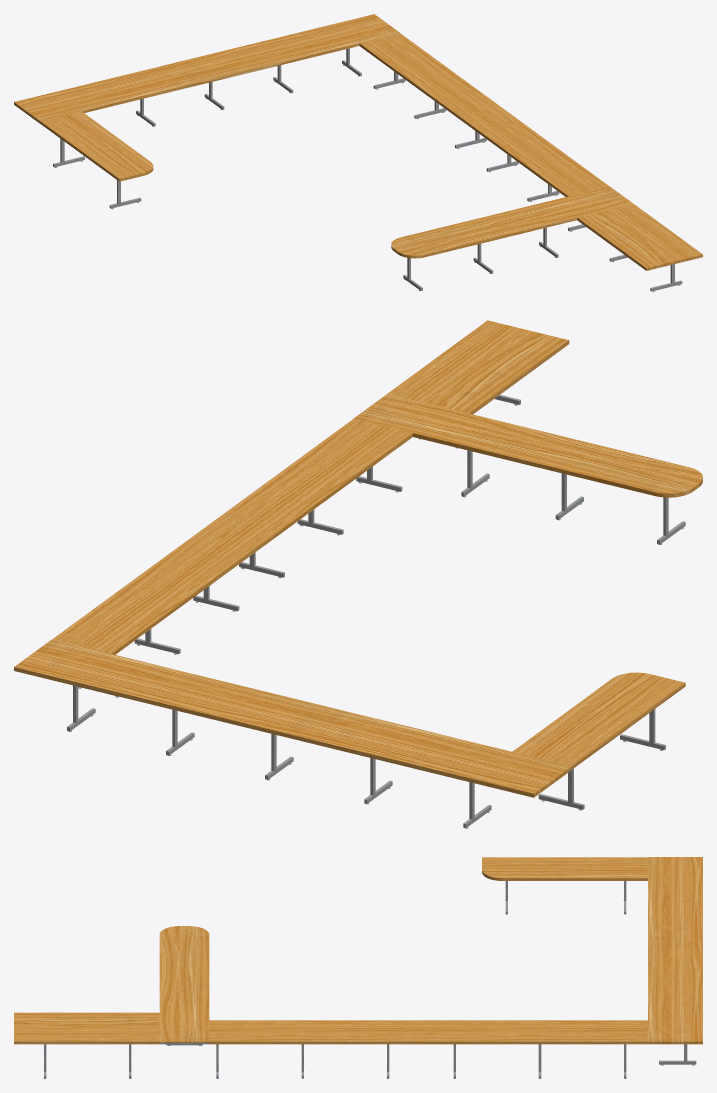
File: tables-few.obj
The picture shows the model from 3 angles, top to bottom: view 1: azimuth 30°, elevation 25°; view 2: azimuth 150°, elevation 25°; view 3: azimuth 270°, elevation 25°; orthographic projection. The views are drawn at different scales.
Visible parts, largest first — view 1: Table_Untitled.003; view 2: Table_Untitled.003; view 3: Table_Untitled.003.
Boxes of the visible parts, x1,y1,x2,y2 form: Table_Untitled.003: (14,14,702,291); Table_Untitled.003: (14,320,702,828); Table_Untitled.003: (14,857,702,1078).
Size of the model in its own units: 1.84 by 0.1921 by 2.91.
1 material, 1 textured.
